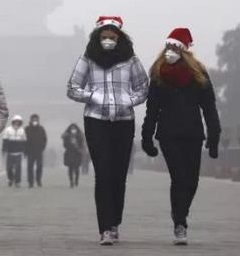person: (66, 15, 149, 245), (141, 25, 222, 247), (1, 113, 31, 190), (22, 113, 49, 190), (60, 122, 87, 191), (127, 140, 137, 174), (43, 147, 59, 167), (81, 151, 91, 175)
